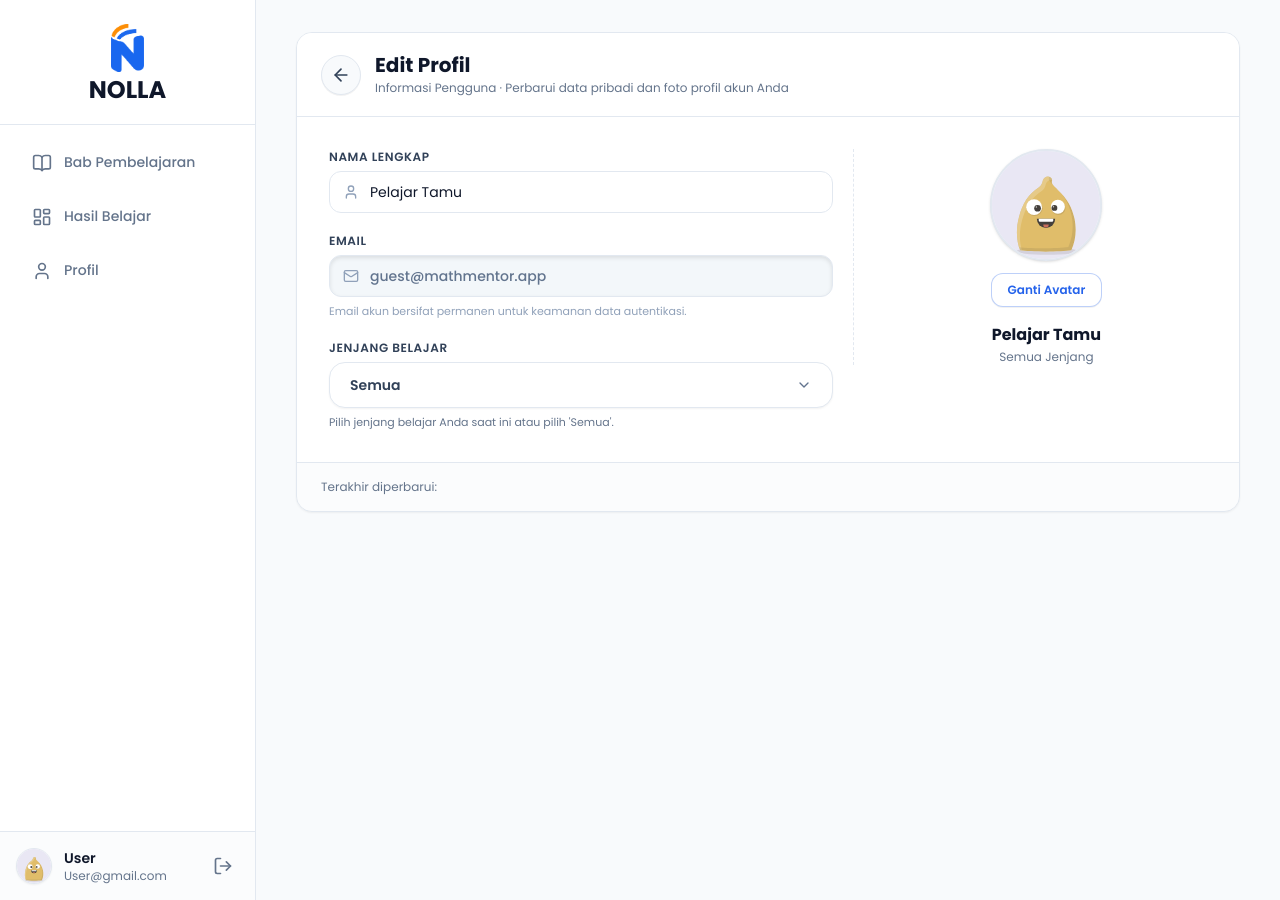
Test: EditProfile Component › memperbarui pratinjau jenjang secara real-time saat dropdown diubah dan memunculkan tombol simpan
Click the button named "Jenjang Belajar" at (375, 384), box [329,362,833,408]
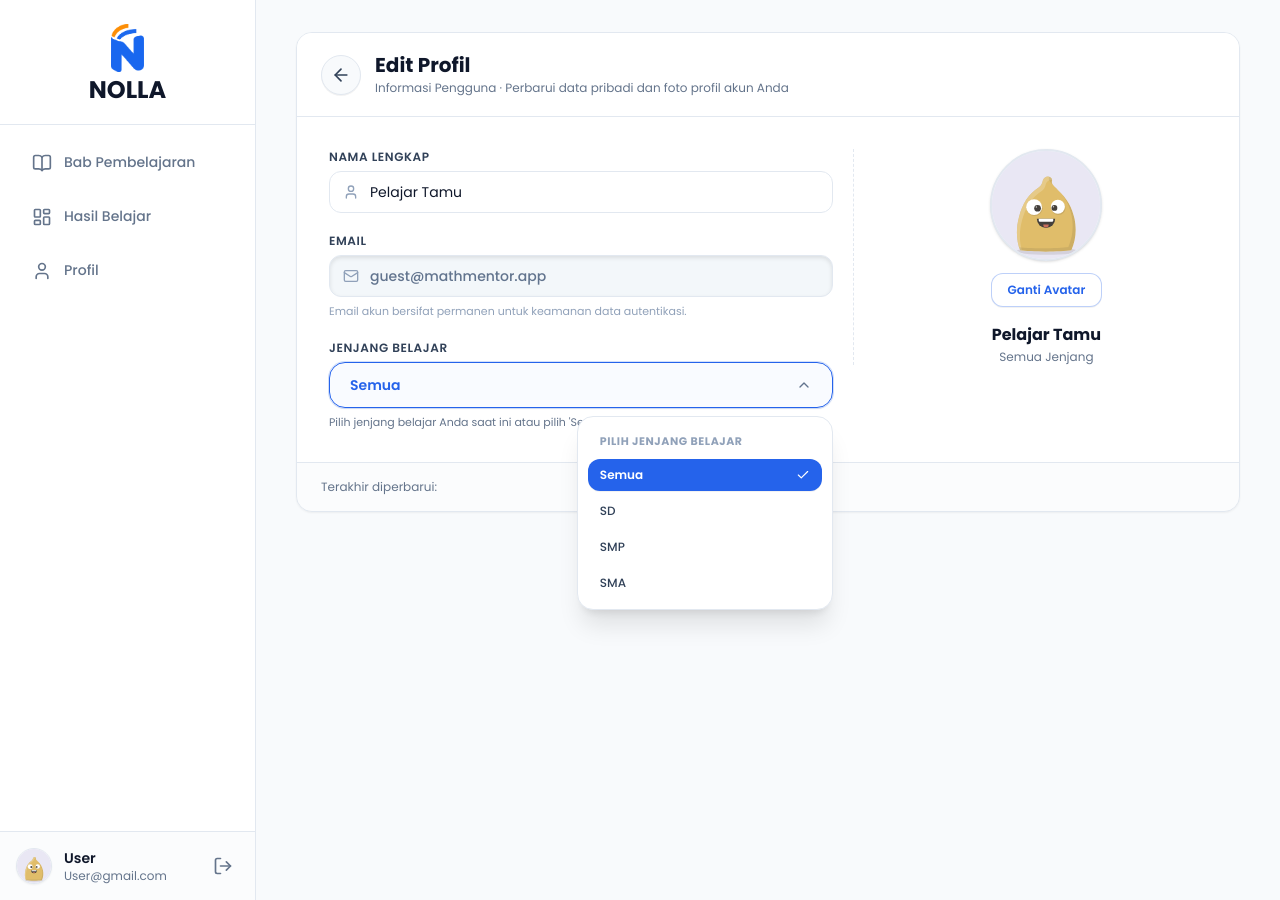
Click the button "SMA" at (705, 583), box [588,567,822,599]
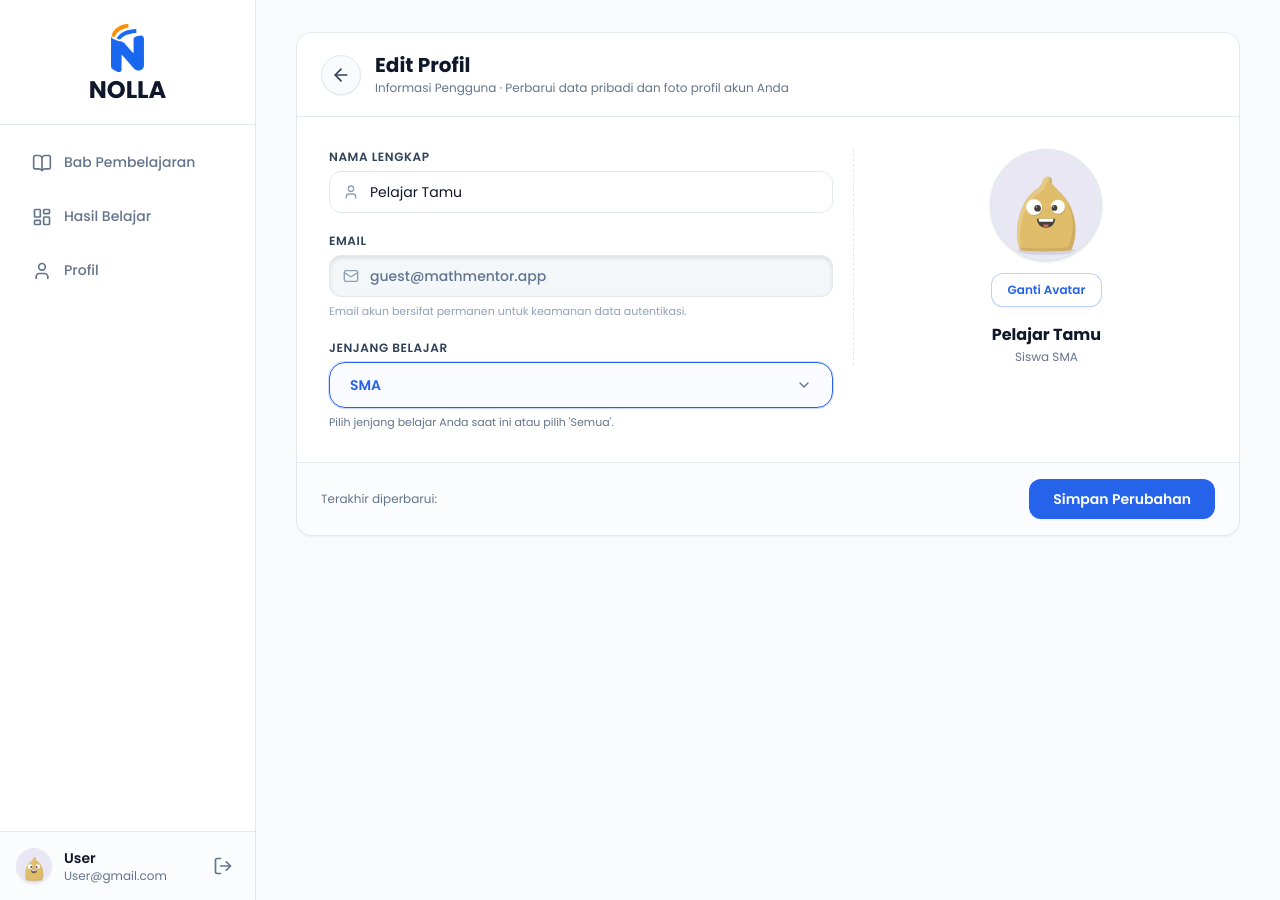
Check: the text "Siswa SMA" is shown, box [1015,348,1078,365]
Check: the button "Simpan Perubahan" is shown, box [1029,479,1215,519]
